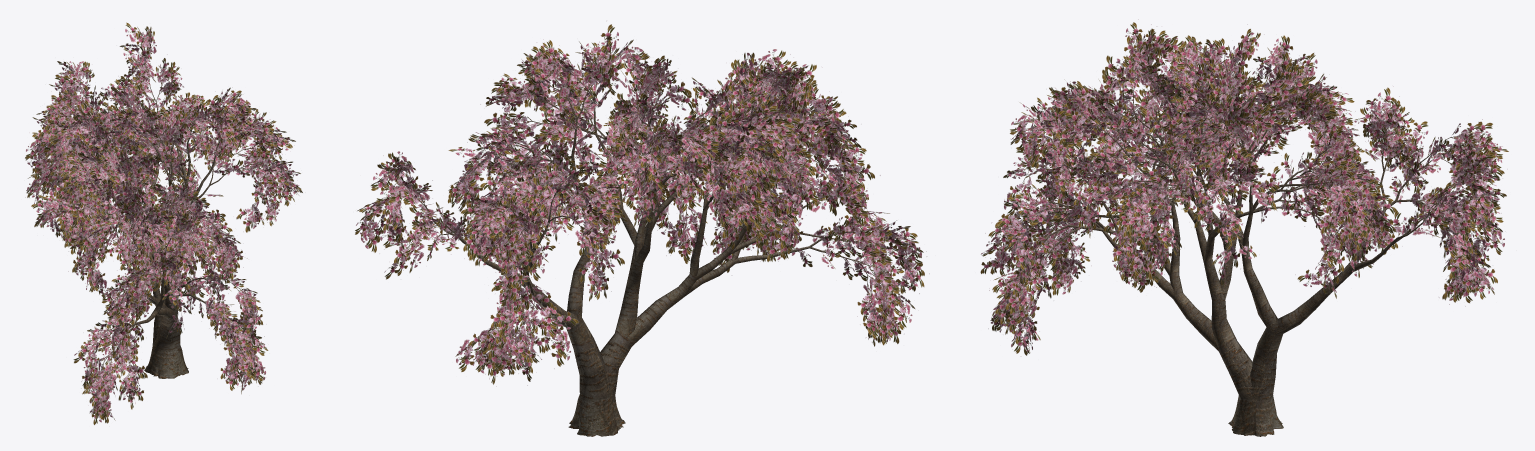
The model's file is tree.gltf.
The picture shows the model from 3 angles, left to right: view 1: azimuth 30°, elevation 25°; view 2: azimuth 150°, elevation 25°; view 3: azimuth 270°, elevation 25°; orthographic projection. The views are drawn at different scales.
Bounding box in the file's own units: 2.11 × 2.05 × 2.75.
Materials: 2 (2 with a texture image).
